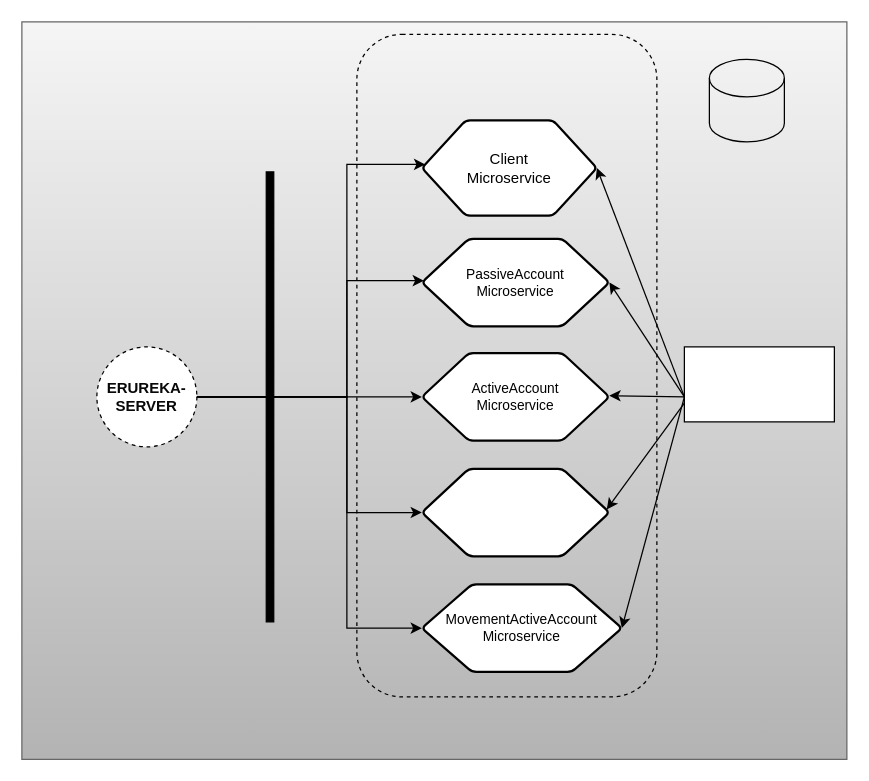
Some shapes in this 869 by 781 pixel diagram are drawn without their labels. Each missing label, with the centre of its shape:
"CONFIG-SERVER" belongs at point (758, 384).
"MONGODB" belongs at point (746, 100).
"MovementPassiveAccount Microservice" belongs at point (515, 512).
